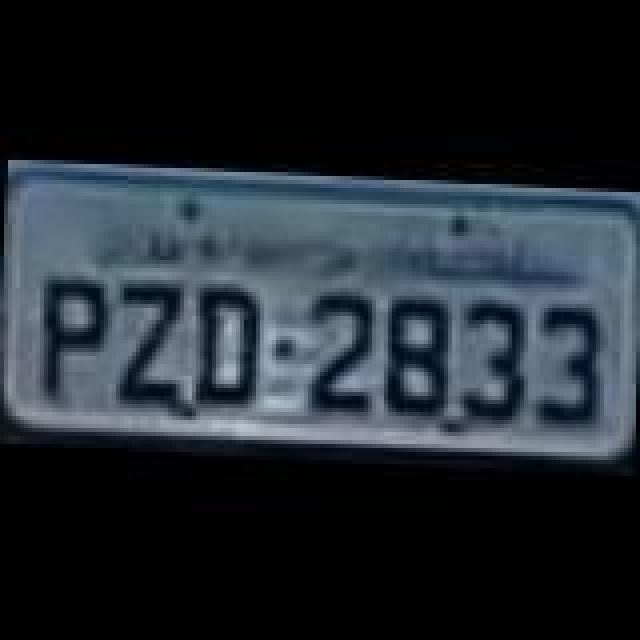2: (302, 292, 386, 420)
3: (450, 294, 534, 426), (528, 298, 608, 430)
8: (378, 296, 454, 424)
D: (196, 276, 268, 412)
P: (34, 268, 110, 404)
Z: (106, 278, 190, 410)
